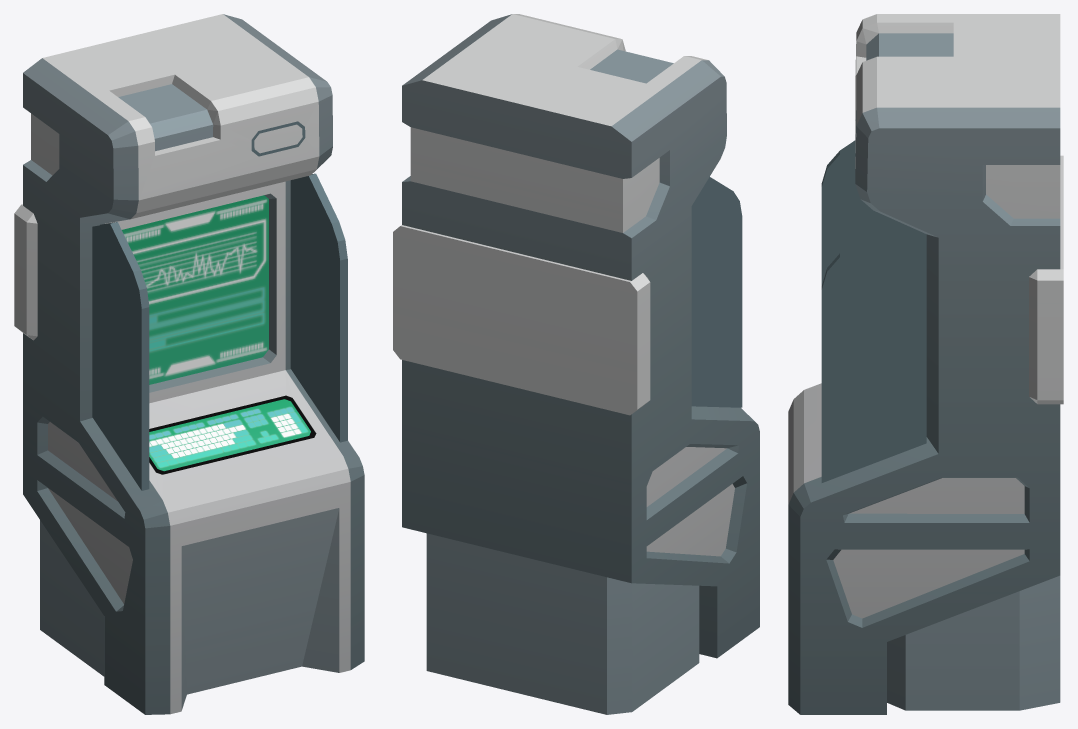
The model's file is Terminal_001.fbx.
3 renders of one model, left to right at view 1: azimuth 30°, elevation 25°; view 2: azimuth 150°, elevation 25°; view 3: azimuth 270°, elevation 25°, orthographic. The views are drawn at different scales.
Visible parts, largest first — view 1: Terminal_001; view 2: Terminal_001; view 3: Terminal_001.
Boxes of the visible parts, bbox=[...] form: Terminal_001: bbox=[14, 14, 364, 714]; Terminal_001: bbox=[393, 14, 759, 714]; Terminal_001: bbox=[788, 14, 1063, 714].
Bounding box in the file's own units: 84.15 × 80.94 × 194.
